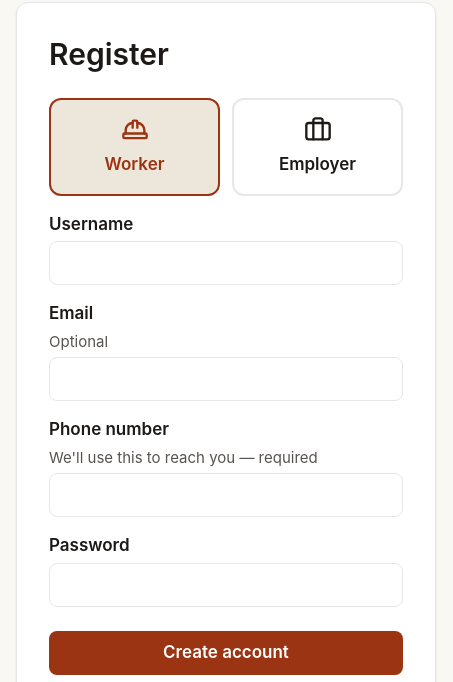
Test case: Register › shows client-side validation errors for empty required fields
Click the button "Create account" at (226, 652), box [49,630,403,674]
(page scrolled)
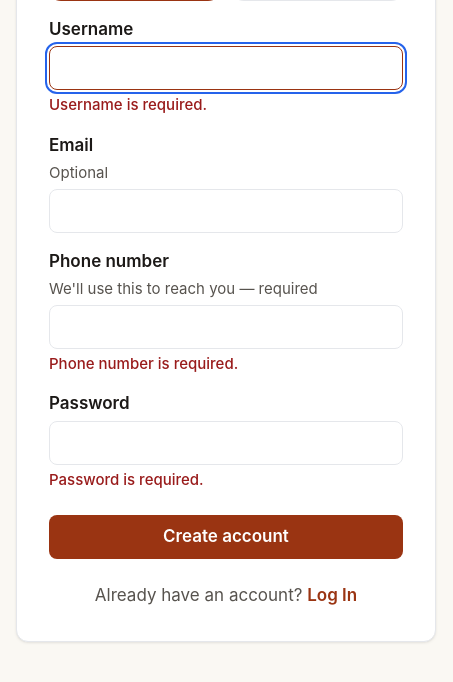
expect the text "Username is required." is shown: met, box [49,95,207,114]
expect the text "Phone number is required." is shown: met, box [49,354,238,372]
expect the text "Password is required." is shown: met, box [49,470,204,488]
